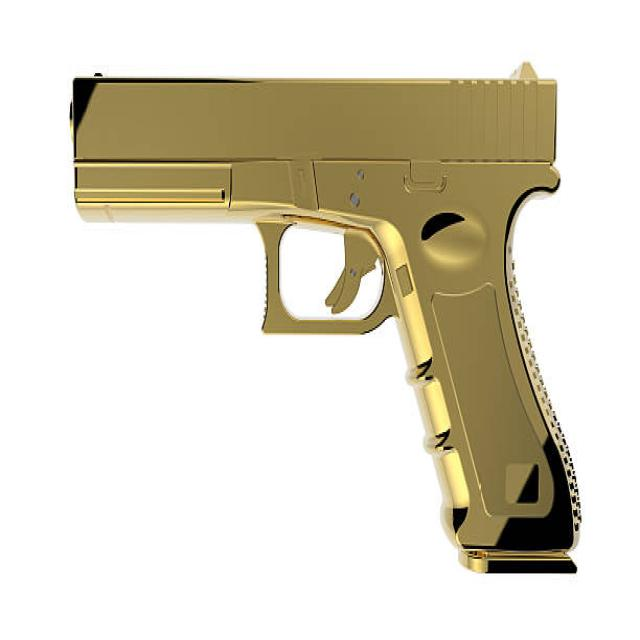pistol: (63, 58, 587, 587)
